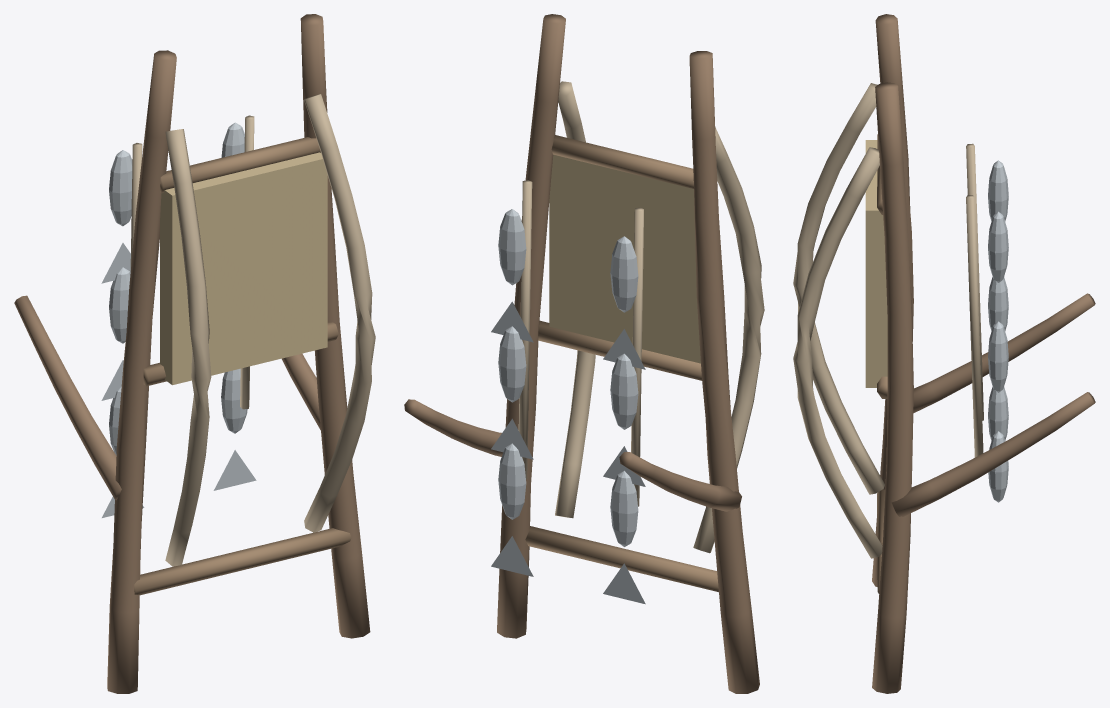
The model's file is JIGE_fish.glb.
3 views of the same model, side by side, from view 1: azimuth 30°, elevation 25°; view 2: azimuth 150°, elevation 25°; view 3: azimuth 270°, elevation 25° (orthographic). The views are drawn at different scales.
Parts seen in each view (by area): view 1: JIGE, LOAD; view 2: JIGE, LOAD; view 3: JIGE, LOAD.
Part boxes in pixels (x1,y1,x2,y2): JIGE: (14,14,375,693); LOAD: (101,115,256,517); JIGE: (404,14,764,693); LOAD: (491,180,645,604); JIGE: (793,14,1095,693); LOAD: (966,143,1008,502).
Bounding box in the file's own units: 0.6048 × 1.39 × 0.6495.
